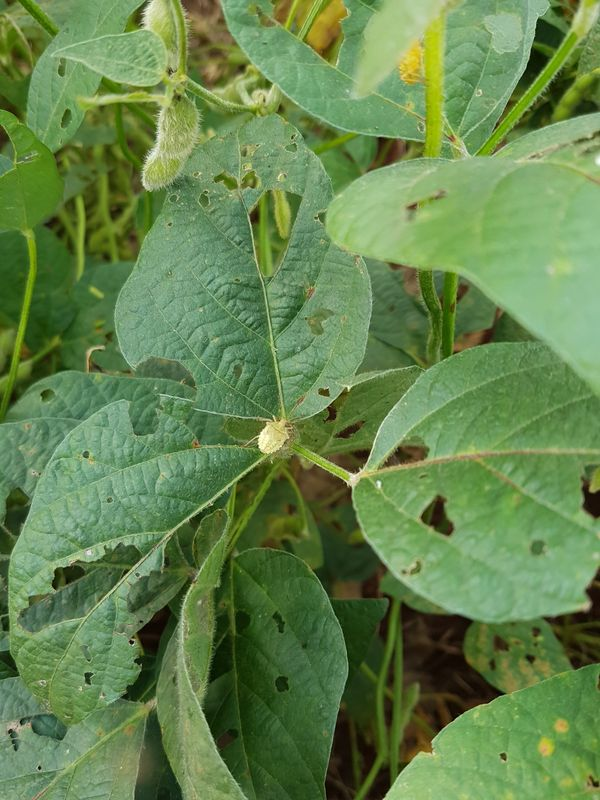Euschistus_heros_ninfa: (239, 410, 304, 467), (386, 29, 436, 89)
